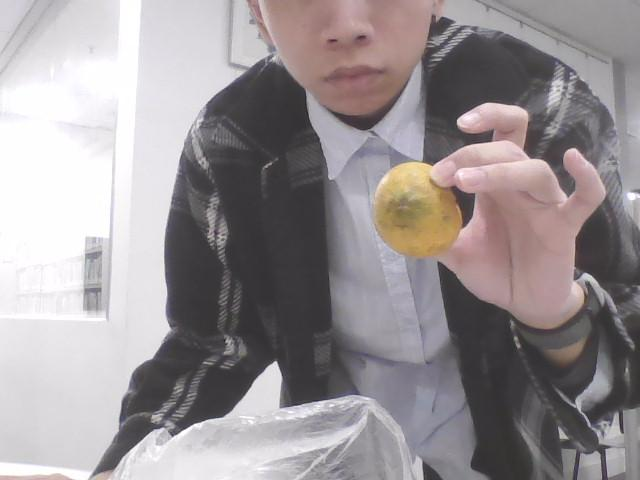lemon: (374, 161, 461, 258)
